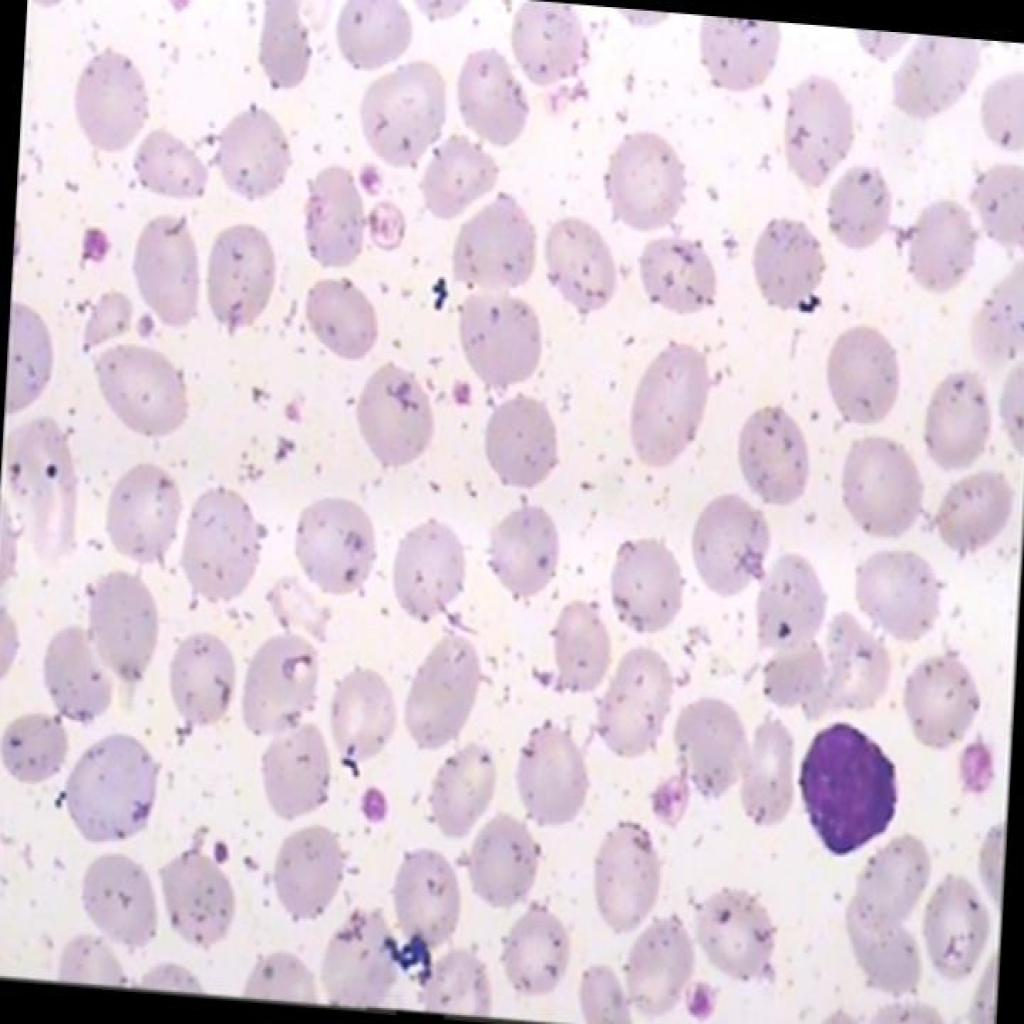Basofil: (784, 698, 920, 884)
Platelet: (949, 729, 1008, 814), (70, 217, 121, 284), (348, 780, 404, 841), (647, 757, 693, 827), (436, 356, 484, 414), (674, 966, 723, 1022), (126, 295, 166, 354), (351, 149, 384, 203), (158, 0, 203, 27)
